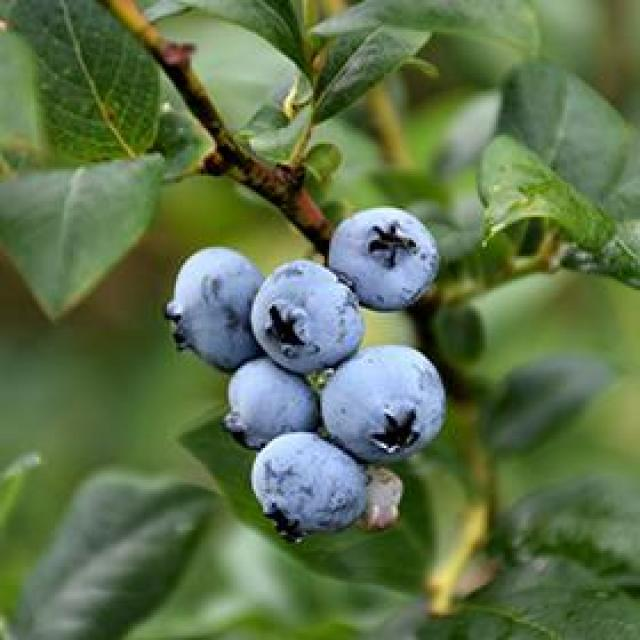BlueBerry - v1: (311, 336, 459, 482), (156, 238, 281, 379), (238, 425, 377, 549), (315, 197, 455, 316), (247, 256, 372, 377), (212, 354, 332, 464)
